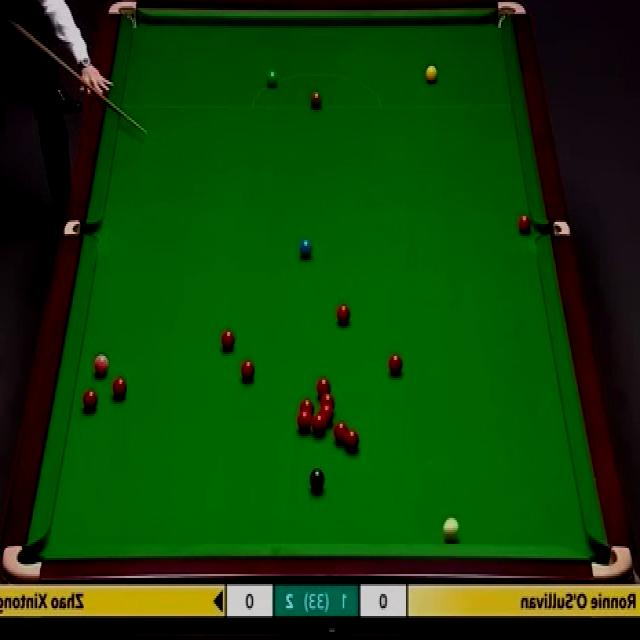pocket: (591, 543, 634, 583), (4, 540, 44, 580), (495, 0, 527, 31), (109, 0, 138, 28), (536, 220, 574, 235), (67, 220, 98, 237)
